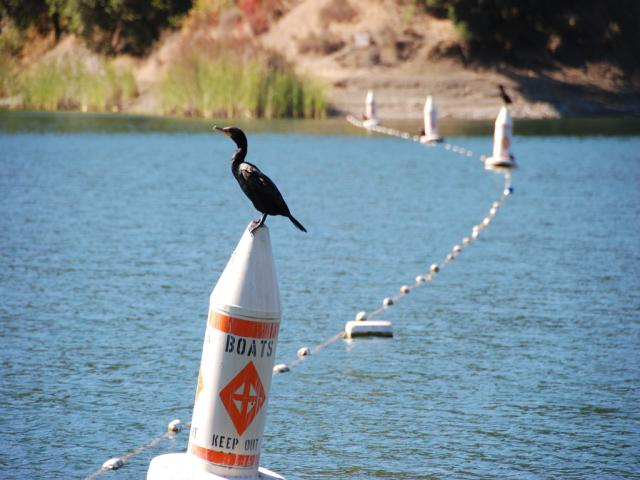Bird: (214, 126, 308, 237)
